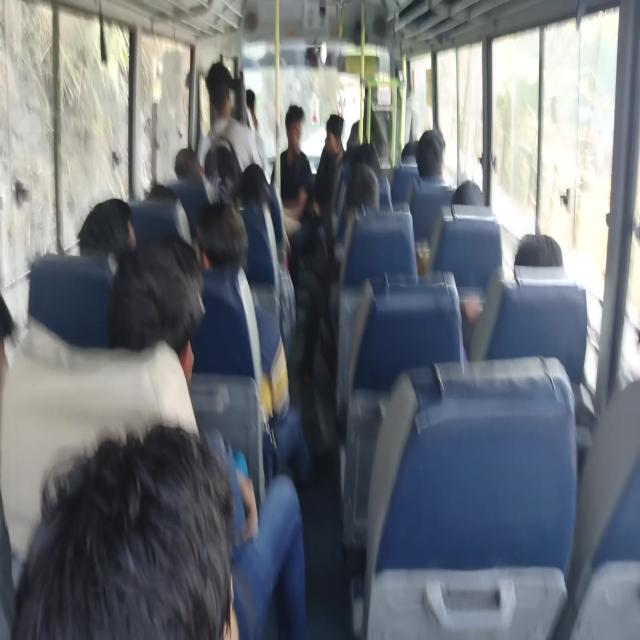person: (36, 438, 241, 640), (119, 253, 211, 378), (200, 207, 250, 269), (506, 224, 563, 276), (449, 177, 502, 225), (94, 198, 134, 258), (172, 147, 221, 195), (209, 60, 243, 119), (414, 129, 446, 184), (349, 164, 377, 220), (242, 169, 274, 210), (286, 103, 310, 143), (346, 143, 374, 176), (322, 117, 342, 154), (246, 84, 260, 124), (404, 137, 419, 164)
